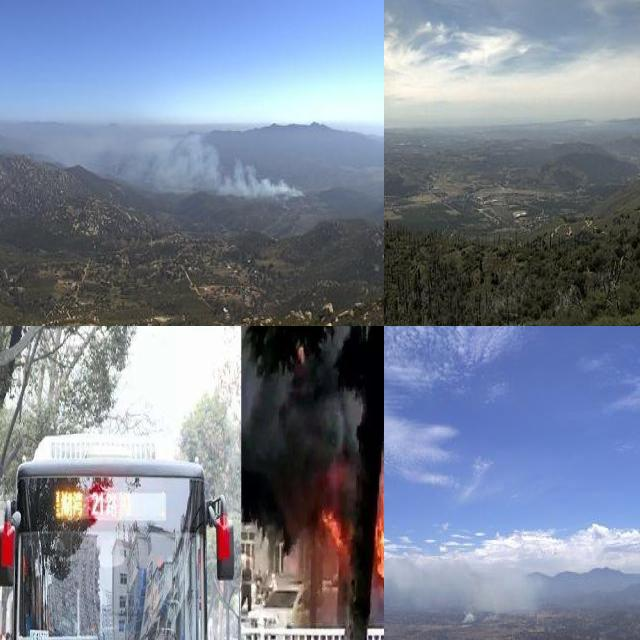smoke: (238, 326, 384, 461), (84, 115, 304, 203), (384, 545, 535, 626)
